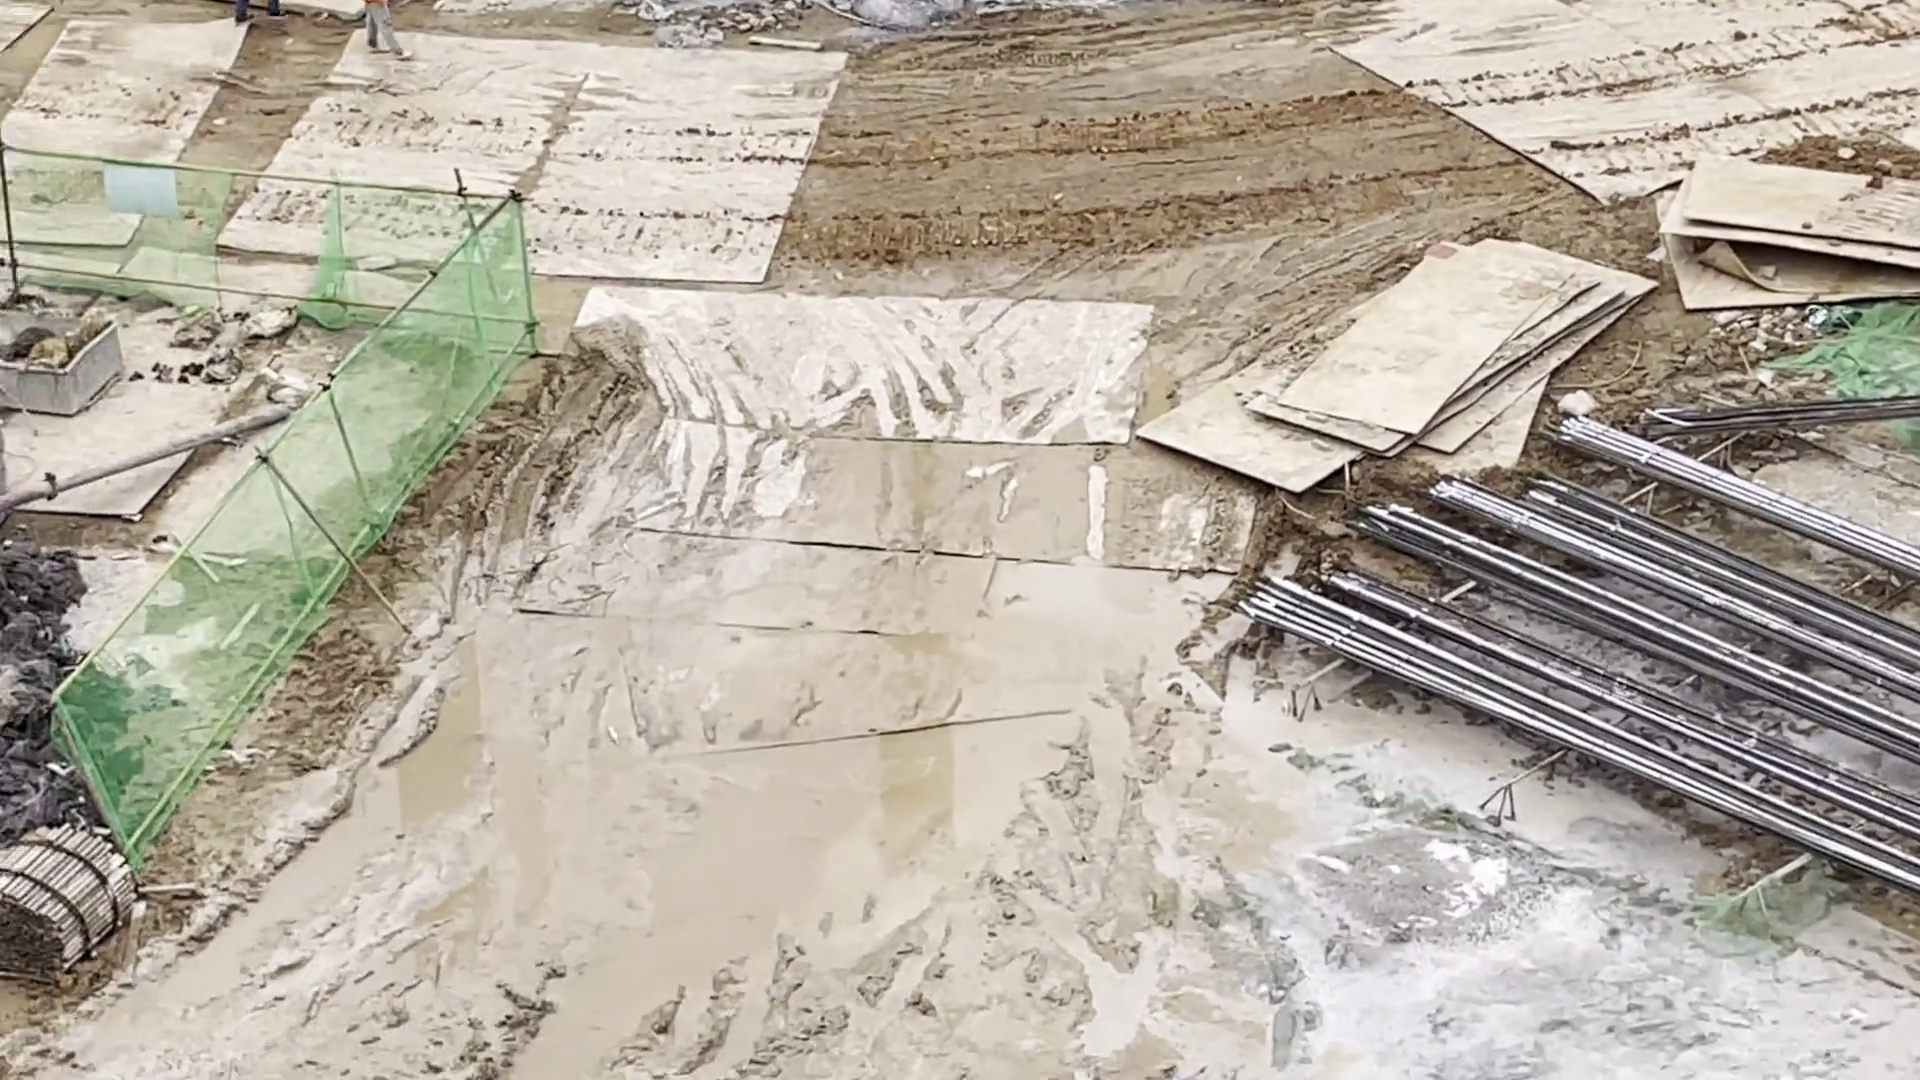hopper: (1, 302, 132, 419)
wood: (1, 824, 142, 986)
